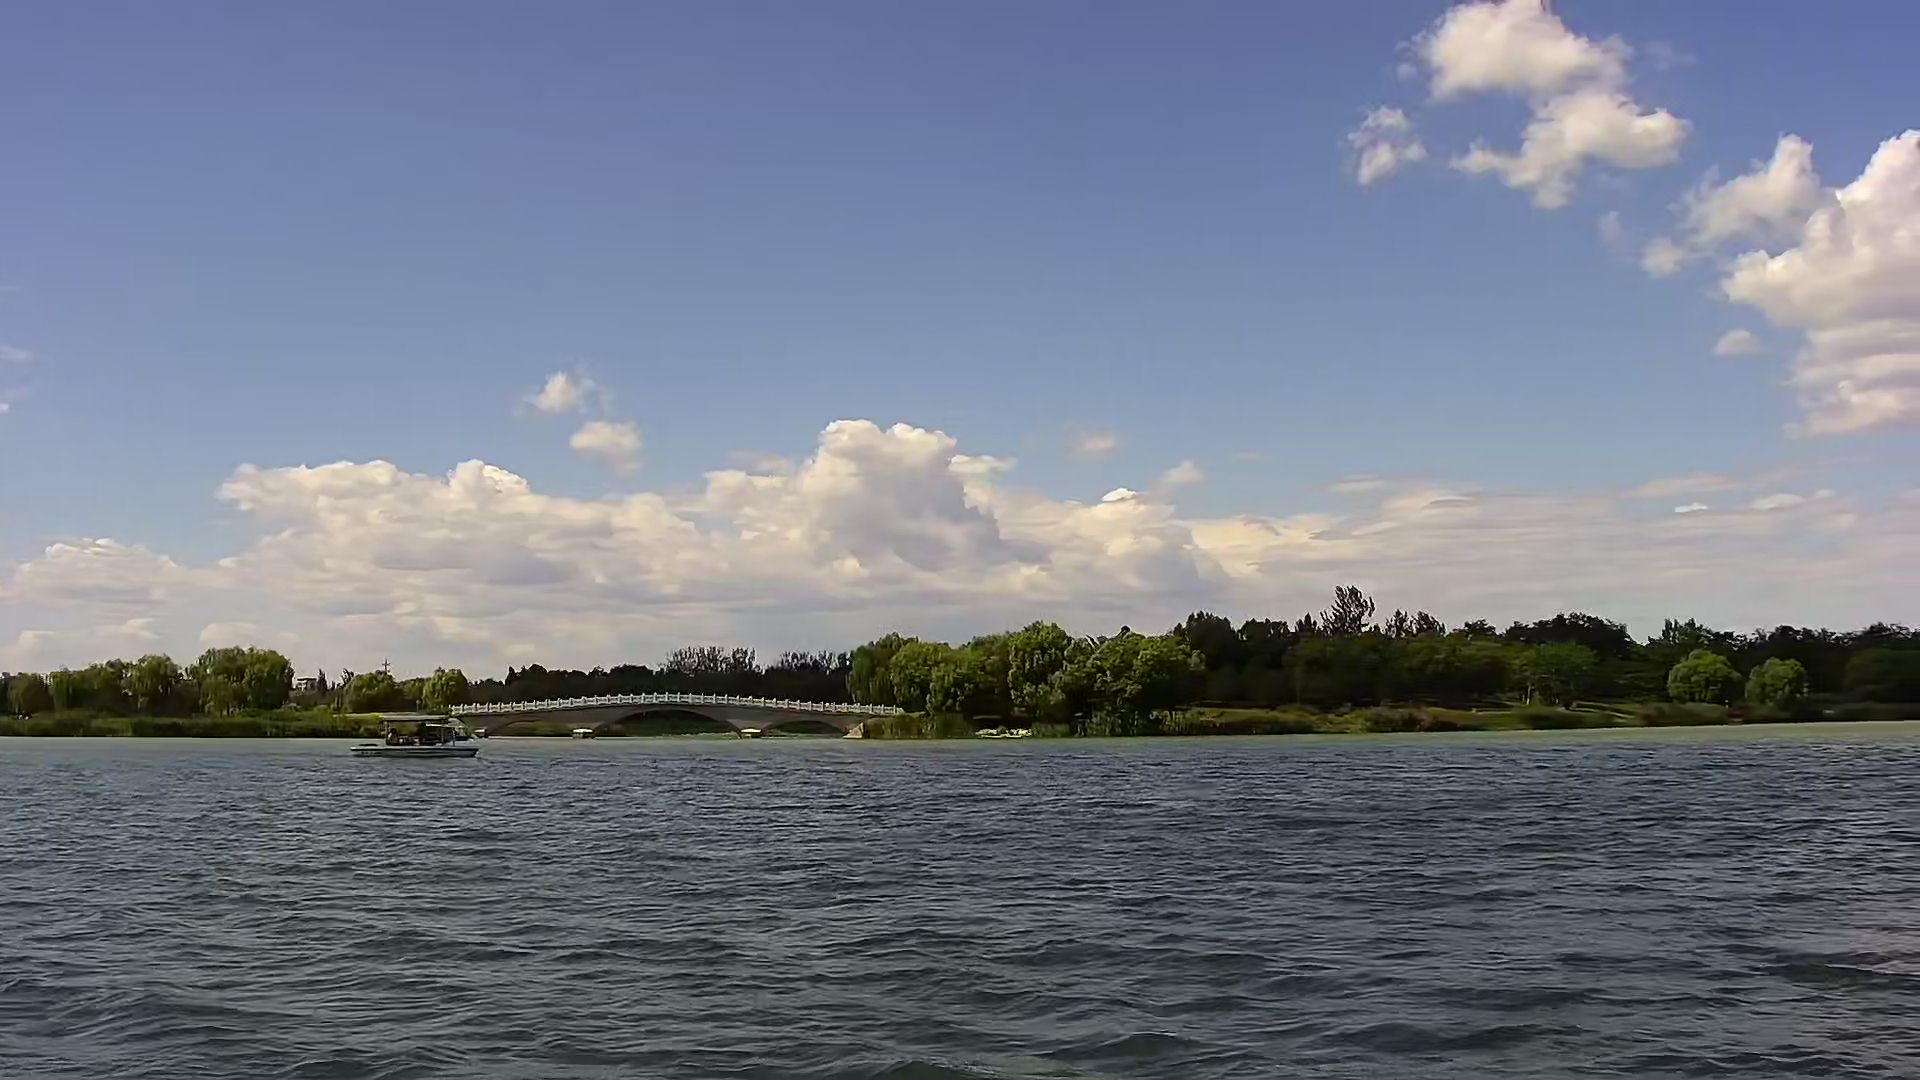boat: (342, 723, 495, 767)
bridge: (458, 691, 890, 738)
